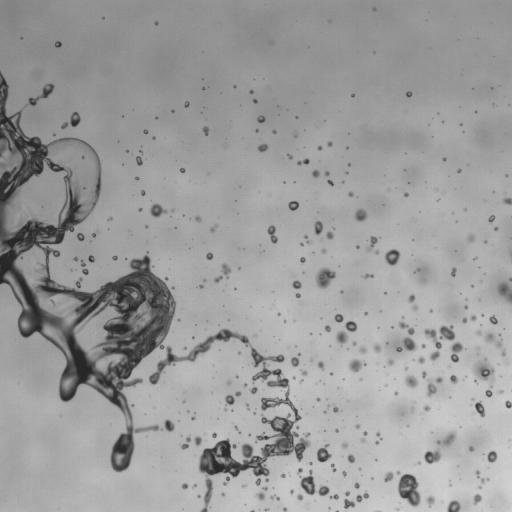droplet: (424, 325, 455, 360), (473, 358, 494, 397), (396, 322, 417, 351), (315, 268, 335, 288), (498, 284, 511, 304), (451, 342, 464, 362), (317, 444, 331, 462), (150, 203, 167, 217), (424, 449, 441, 463), (385, 249, 399, 265), (349, 359, 366, 372), (336, 331, 347, 345), (405, 375, 417, 387), (475, 401, 484, 417), (444, 432, 455, 445), (256, 487, 267, 500), (447, 500, 460, 511), (355, 209, 366, 221), (221, 264, 231, 277), (345, 321, 357, 331), (164, 419, 174, 431), (487, 450, 497, 462), (344, 498, 355, 508), (314, 221, 322, 234), (288, 201, 298, 210), (225, 395, 234, 405), (384, 472, 393, 482), (292, 280, 301, 289), (291, 356, 299, 366), (473, 494, 481, 504), (426, 496, 434, 506), (334, 314, 343, 322), (489, 315, 497, 324), (373, 343, 381, 352), (258, 144, 267, 151), (194, 436, 201, 445), (347, 454, 354, 463), (326, 231, 333, 239), (77, 233, 84, 241), (317, 361, 324, 369), (450, 375, 457, 383), (136, 156, 142, 165), (312, 170, 319, 177), (206, 252, 213, 259), (359, 346, 366, 353), (250, 387, 257, 394), (257, 116, 265, 122), (202, 126, 208, 134), (503, 198, 511, 204), (210, 224, 216, 232), (214, 276, 222, 282), (408, 294, 414, 302), (451, 267, 456, 276), (329, 494, 338, 499), (488, 215, 494, 222), (468, 235, 474, 242), (418, 356, 424, 363), (435, 377, 442, 383), (423, 405, 430, 411), (55, 41, 61, 47), (88, 256, 94, 262), (470, 315, 476, 321), (324, 325, 330, 331), (388, 359, 394, 365), (505, 401, 511, 407), (181, 483, 187, 489), (297, 494, 303, 500), (300, 370, 307, 375), (364, 274, 372, 278), (406, 91, 411, 97), (184, 101, 189, 107), (327, 180, 333, 185), (195, 216, 201, 221), (412, 304, 417, 310), (333, 406, 338, 412), (422, 371, 426, 378), (327, 141, 332, 146), (287, 154, 292, 159), (300, 257, 305, 262), (295, 293, 300, 298), (462, 318, 467, 323), (235, 391, 240, 396), (342, 443, 347, 448), (354, 483, 359, 488), (501, 350, 505, 356), (475, 471, 479, 477), (317, 146, 322, 150), (180, 168, 185, 172), (141, 190, 145, 195), (348, 192, 353, 196), (477, 330, 481, 335), (355, 424, 360, 428), (376, 432, 380, 437), (469, 446, 473, 451), (342, 471, 346, 476), (345, 491, 349, 496), (246, 403, 249, 409), (253, 99, 257, 103), (325, 171, 329, 175), (404, 192, 408, 196), (113, 256, 117, 260), (352, 341, 356, 345), (421, 344, 425, 348), (363, 431, 367, 435), (212, 433, 216, 437), (361, 438, 365, 442), (375, 440, 379, 444), (281, 473, 285, 477), (283, 507, 287, 511), (322, 249, 325, 253), (375, 250, 378, 254), (74, 257, 78, 260), (316, 397, 319, 401), (264, 508, 268, 511), (351, 94, 354, 97), (144, 130, 147, 133), (494, 227, 497, 230), (92, 233, 95, 236), (227, 381, 230, 384), (394, 391, 397, 394), (499, 390, 502, 393), (191, 416, 194, 419), (290, 490, 293, 493), (509, 277, 511, 281), (198, 285, 202, 287), (155, 21, 157, 24), (250, 90, 252, 93), (171, 110, 174, 112), (273, 130, 275, 133), (81, 156, 84, 158), (443, 158, 446, 160), (458, 169, 460, 172), (135, 177, 138, 179), (139, 208, 141, 211), (300, 243, 303, 245), (356, 246, 359, 248), (464, 306, 467, 308), (277, 313, 280, 315), (404, 367, 407, 369), (330, 372, 332, 375), (244, 383, 246, 386), (335, 429, 338, 431), (437, 440, 439, 443), (265, 479, 268, 481), (478, 486, 480, 489), (222, 493, 224, 496), (197, 495, 200, 497), (171, 209, 173, 211), (109, 218, 111, 220), (474, 257, 476, 259), (52, 302, 54, 304), (284, 320, 286, 322), (238, 351, 240, 353), (300, 380, 302, 382)
ligament: (0, 71, 309, 511), (297, 468, 329, 495), (396, 471, 420, 506), (28, 83, 54, 105), (61, 112, 80, 128), (484, 332, 502, 347), (267, 225, 277, 243), (366, 236, 378, 251), (427, 378, 436, 396), (180, 436, 190, 449), (356, 492, 369, 502), (81, 260, 88, 274), (297, 158, 309, 165), (234, 426, 240, 433), (304, 235, 309, 243), (271, 495, 279, 499), (331, 464, 335, 471), (481, 478, 488, 482), (375, 510, 380, 511), (510, 252, 511, 256)
